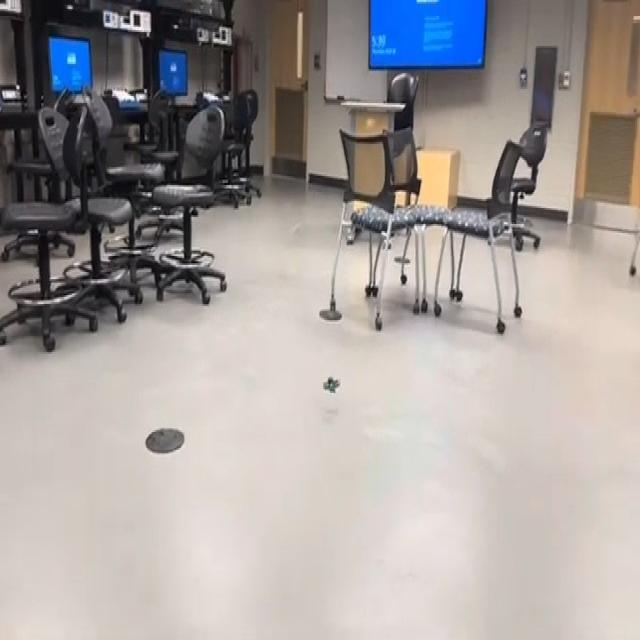drone: (314, 364, 343, 404)
